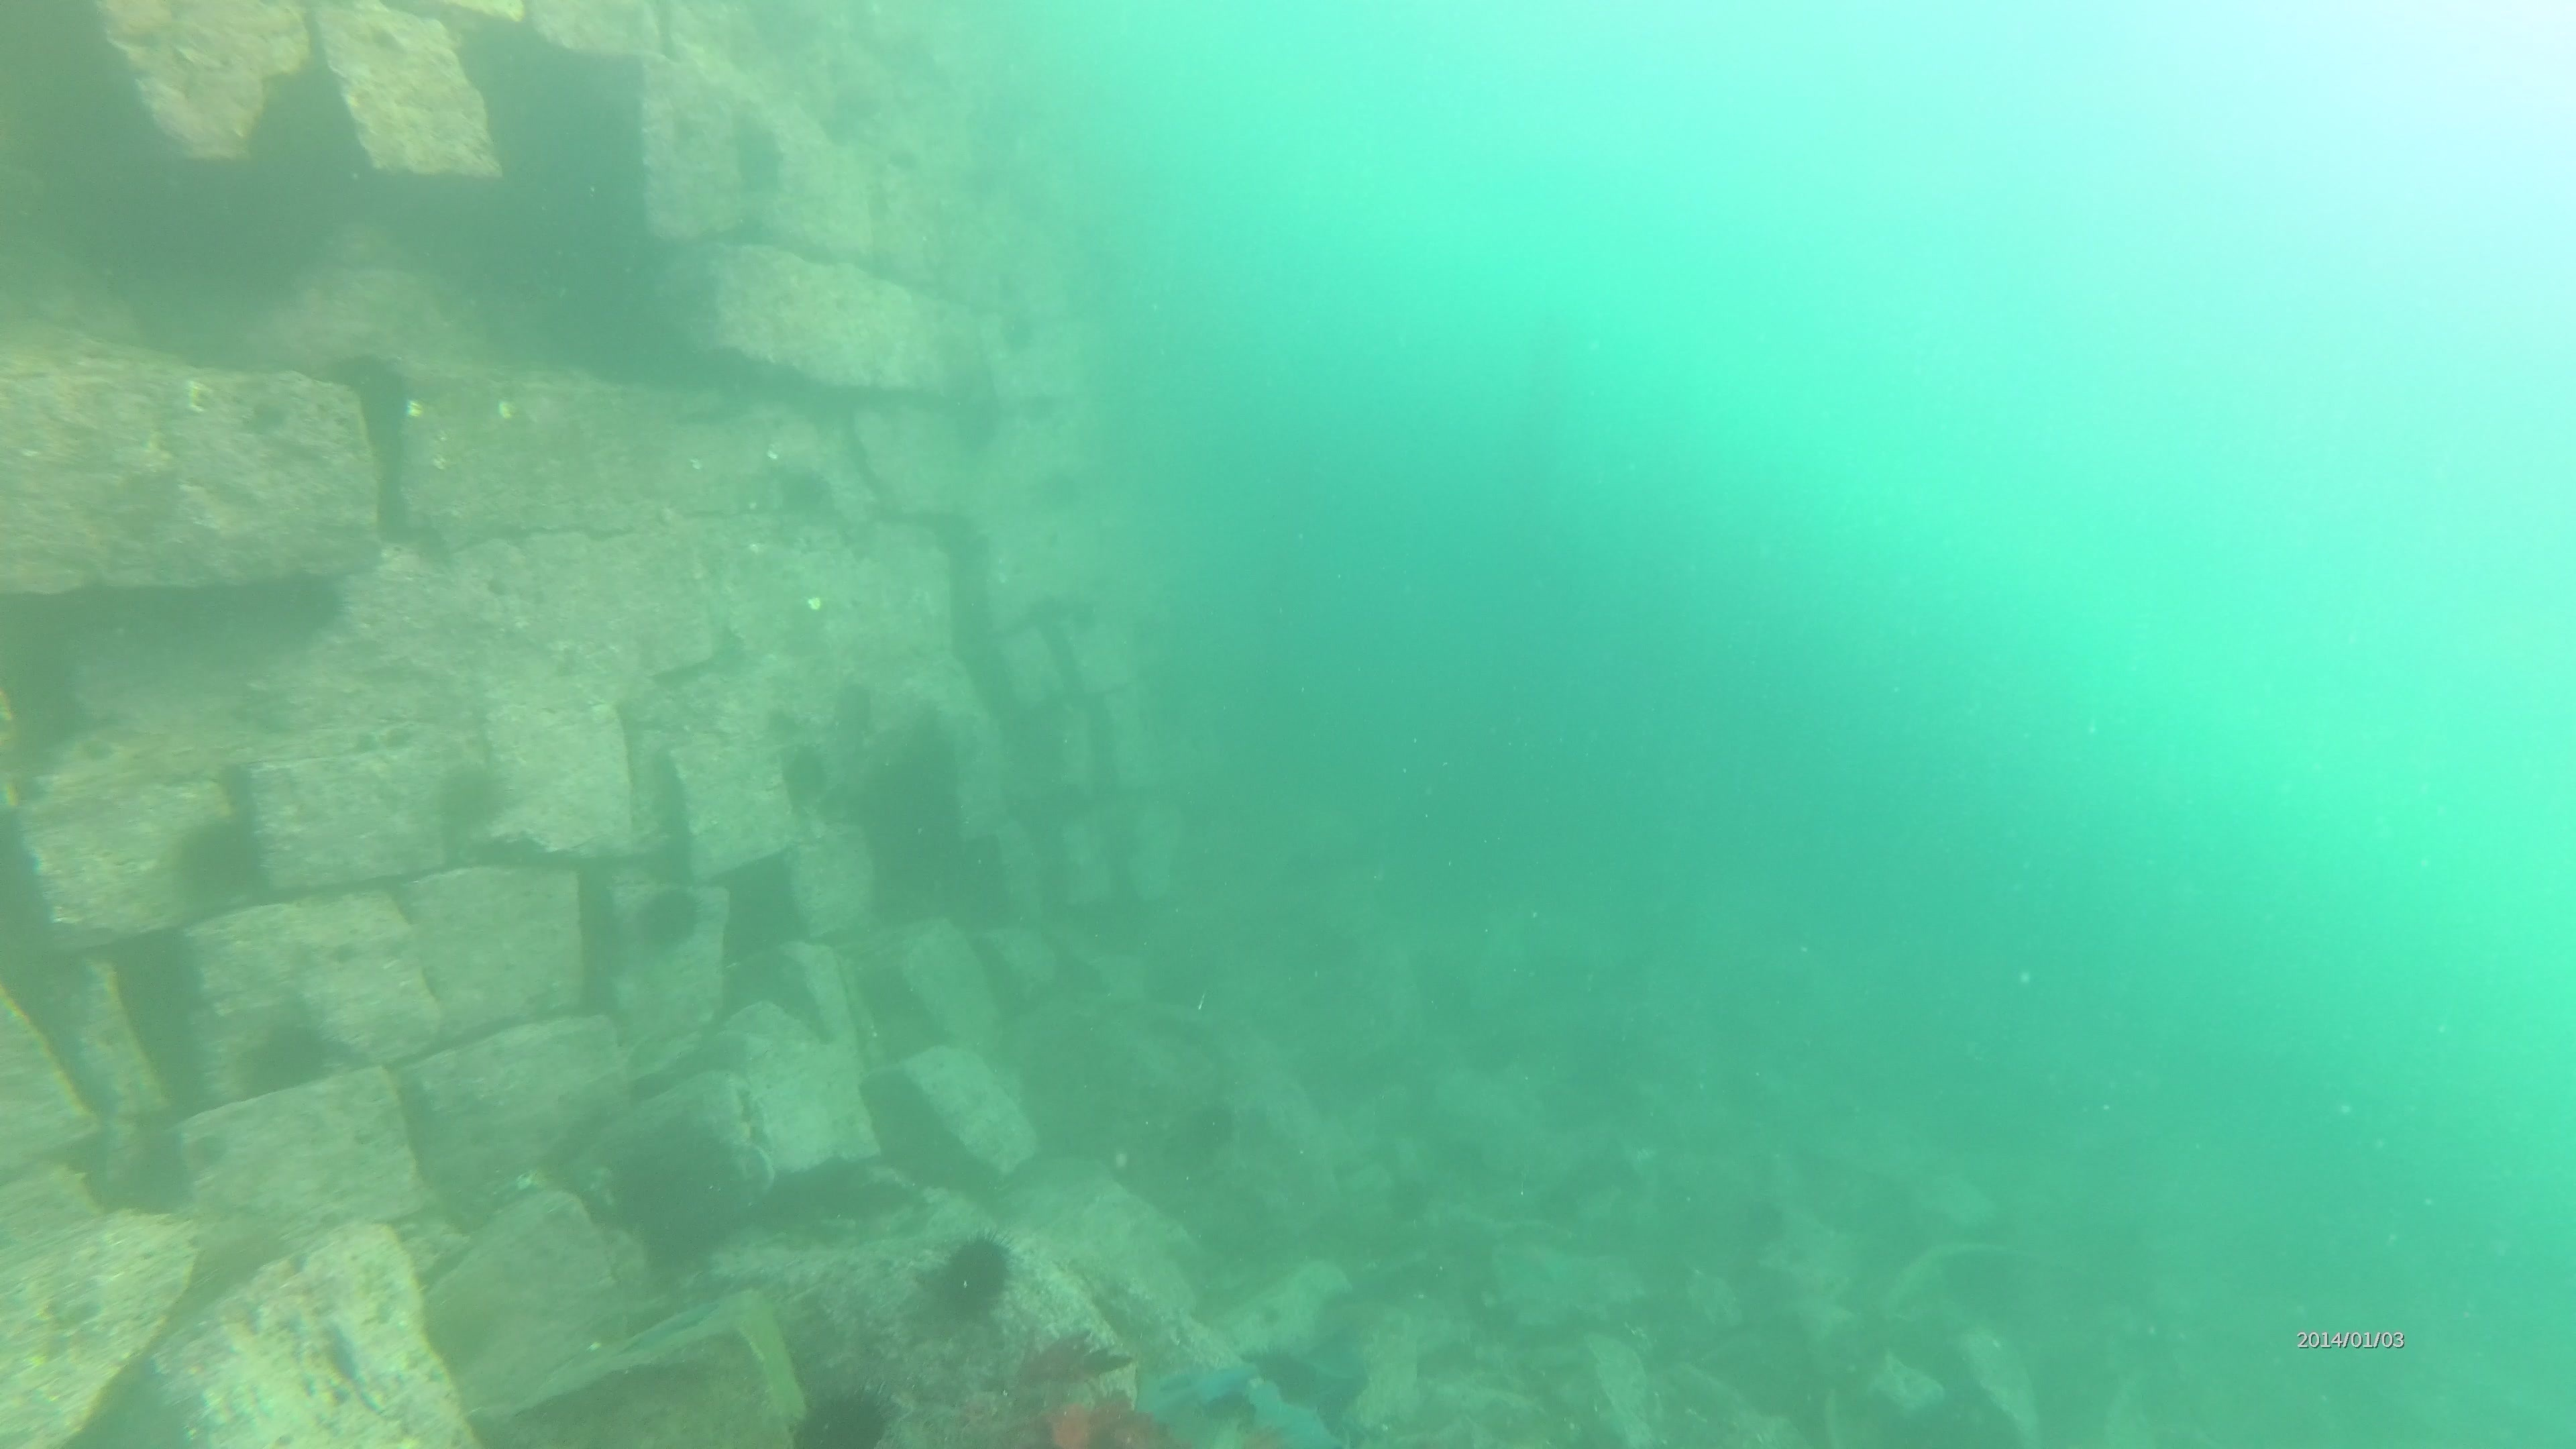echinus: (161, 810, 272, 920), (230, 1005, 343, 1108), (916, 1226, 1024, 1327), (423, 754, 517, 844), (789, 1376, 902, 1449), (718, 108, 794, 203), (630, 878, 706, 959), (770, 734, 840, 821), (780, 469, 833, 508)
